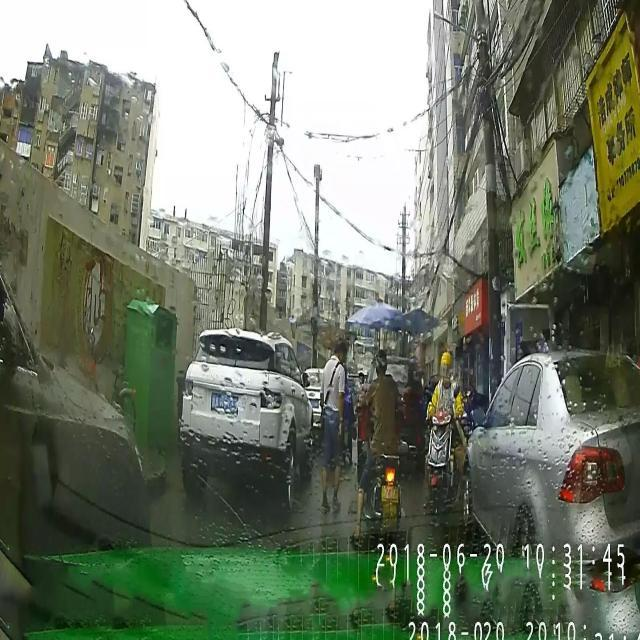car: (0, 260, 151, 614), (462, 350, 640, 570), (180, 328, 314, 510)
